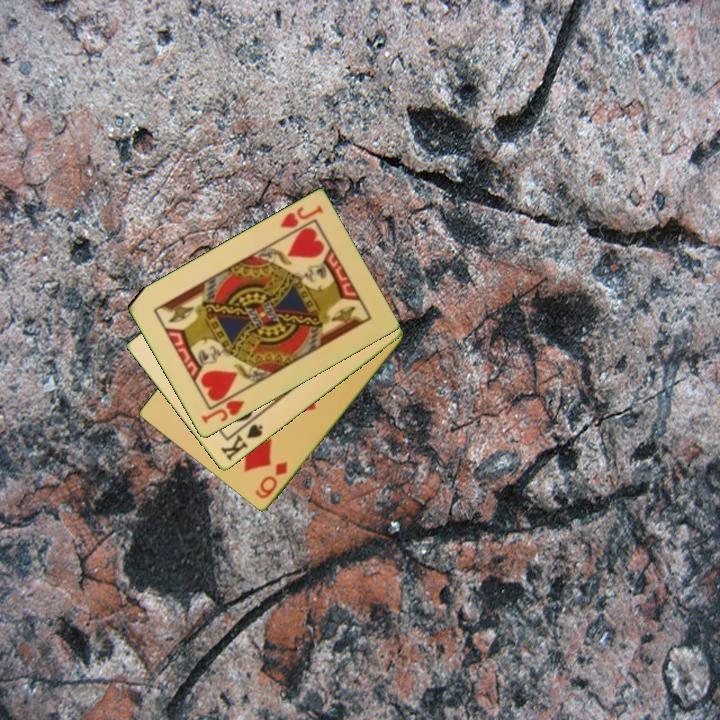6d: (251, 458, 291, 502)
Jh: (198, 388, 248, 427), (276, 202, 326, 231)
Ks: (217, 421, 266, 464)
